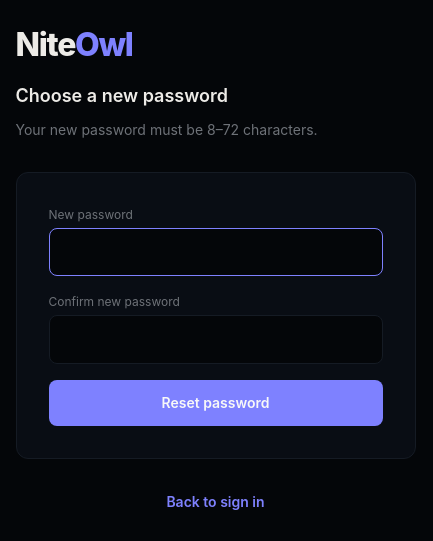
Test: ResetPasswordPage › flags mismatched confirmation
Type "goodpassword1" into the password field labelled "New password".
click(216, 252); type("goodpassword1")  # box [48,228,382,276]
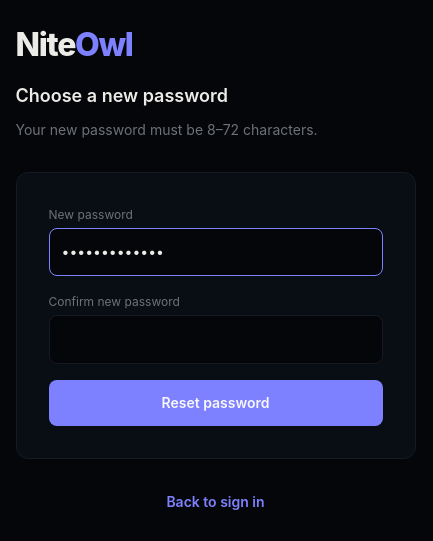
Type "goodpassword2" into the password field labelled "Confirm new password".
click(216, 340); type("goodpassword2")  # box [48,315,382,364]
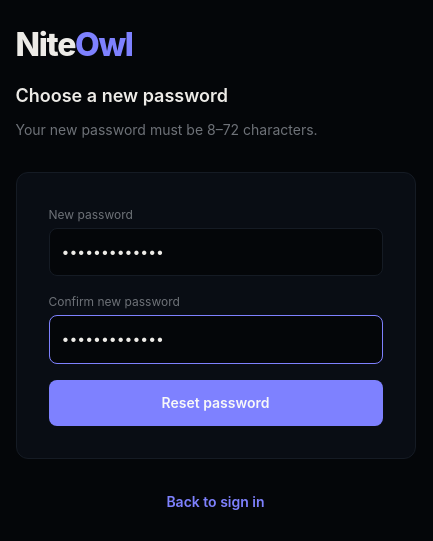
Click the button "Reset password".
click(216, 403)  # box [48,380,382,426]
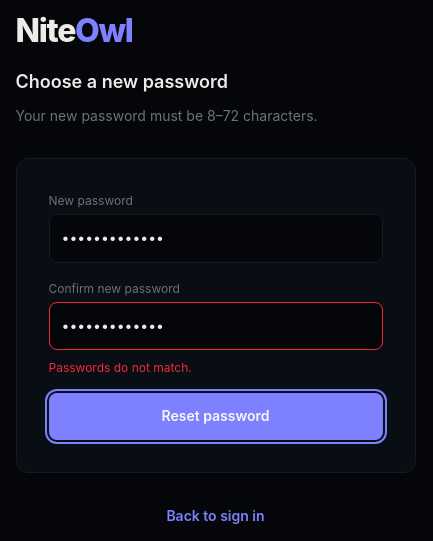
Check: the text "Passwords do not match." is shown, box [48,360,192,375]
